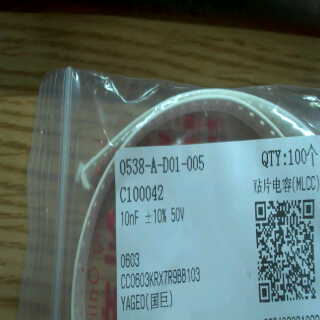10nF: (116, 206, 141, 232)
